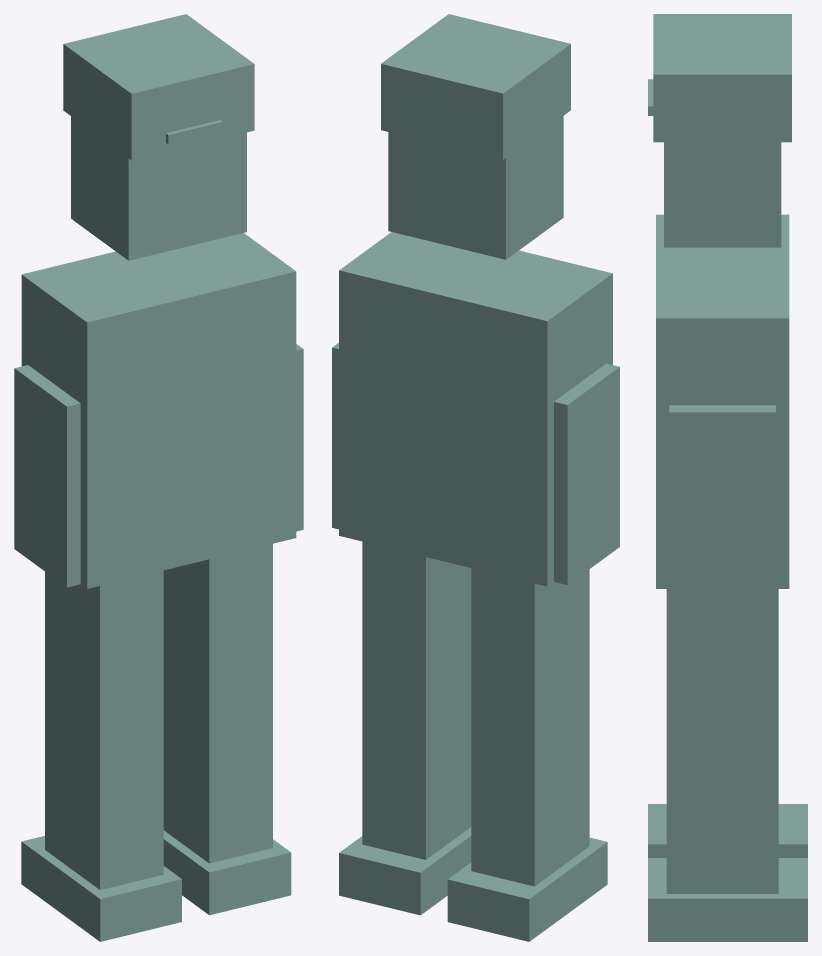
Rendered from nova.glb.
The picture shows the model from 3 angles, left to right: view 1: azimuth 30°, elevation 25°; view 2: azimuth 150°, elevation 25°; view 3: azimuth 270°, elevation 25°; orthographic projection.
Visible parts, largest first — view 1: PLACEHOLDER_NOVA_STATIC_NO_CLIPS; view 2: PLACEHOLDER_NOVA_STATIC_NO_CLIPS; view 3: PLACEHOLDER_NOVA_STATIC_NO_CLIPS.
Part boxes in pixels (bbox=[...]): PLACEHOLDER_NOVA_STATIC_NO_CLIPS: bbox=[14, 14, 303, 941]; PLACEHOLDER_NOVA_STATIC_NO_CLIPS: bbox=[332, 14, 619, 941]; PLACEHOLDER_NOVA_STATIC_NO_CLIPS: bbox=[648, 14, 807, 941].
Bounding box in the file's own units: 0.52 × 1.76 × 0.3.
